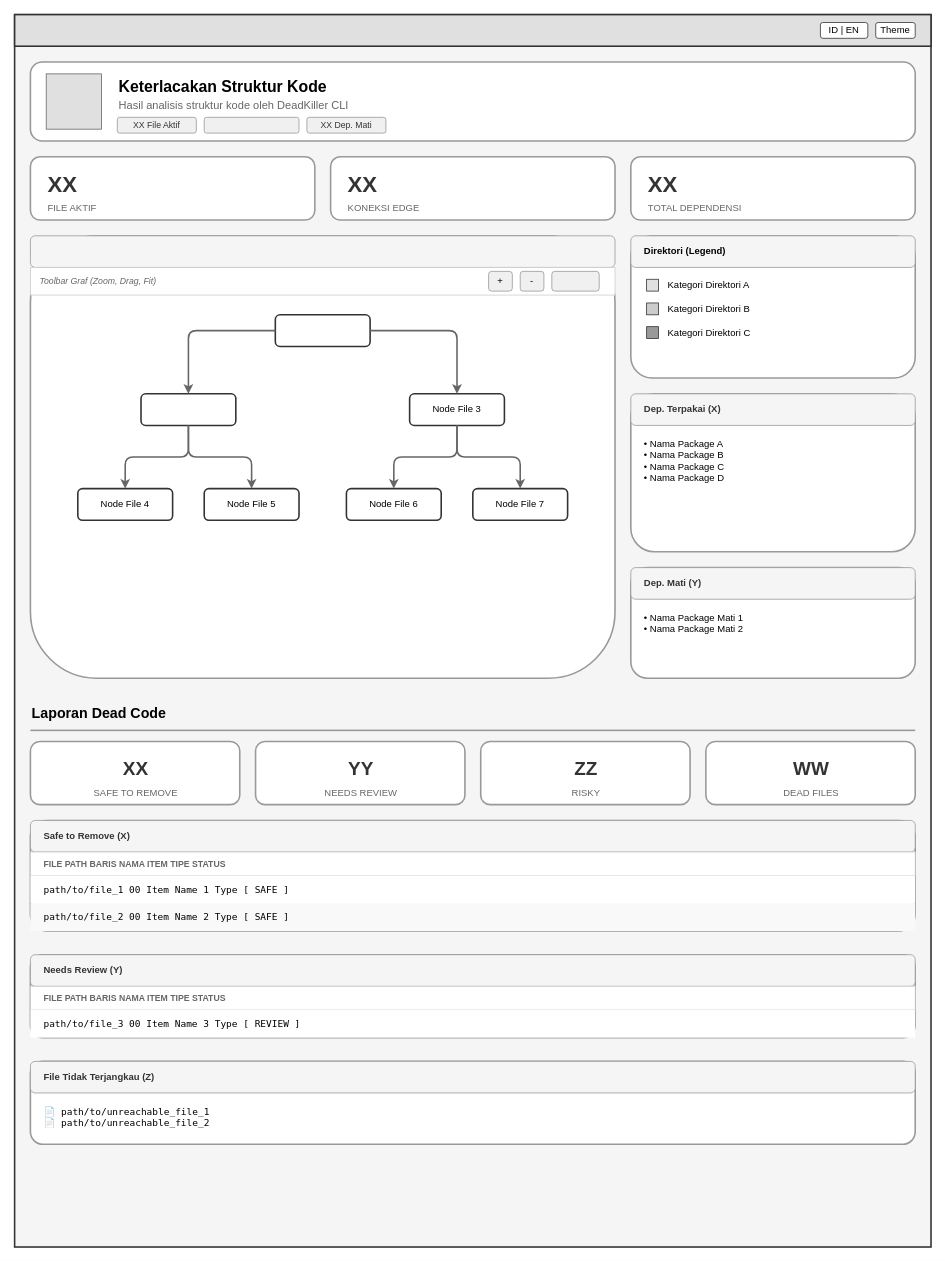
Image size: 945x1261. Some labels were removed from this diagram. The shapes that lost their labels are listed below. From the top down, each one's box as (x1, y1, x2, y2) in pixels, then its label:
(13, 13, 931, 47): Dashboard DeadKiller - Code Traceability
(45, 73, 102, 129): LOGO
(203, 117, 299, 133): XX Dep. Terpakai
(30, 235, 615, 267): Graf Keterlacakan Kode
(551, 271, 599, 291): Fit
(274, 314, 371, 347): Node File 1
(140, 393, 236, 426): Node File 2
